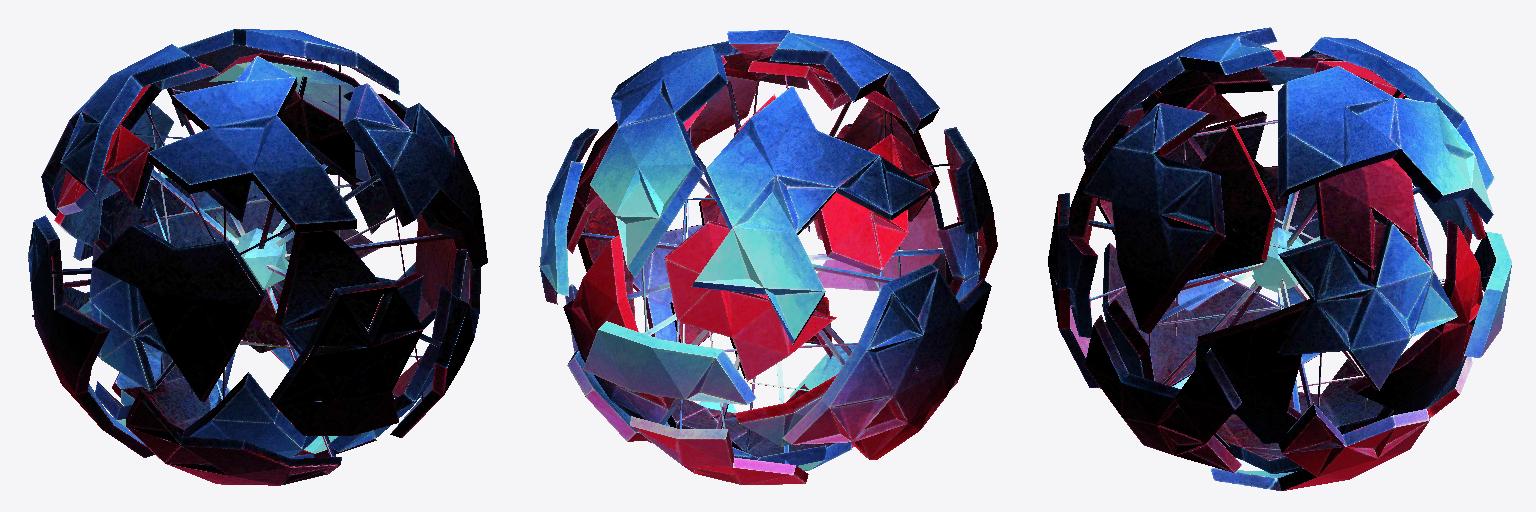
The picture shows the model from 3 angles: view 1: azimuth 30°, elevation 25°; view 2: azimuth 150°, elevation 25°; view 3: azimuth 270°, elevation 25°; orthographic projection.
Parts seen in each view (by area): view 1: metal_planet_Icosphere, metal_interior_Icosphere.019; view 2: metal_planet_Icosphere, metal_interior_Icosphere.019; view 3: metal_planet_Icosphere, metal_interior_Icosphere.019.
Part boxes in pixels (left/top/right/bottom): metal_planet_Icosphere: left=28, top=29, right=487, bottom=485; metal_interior_Icosphere.019: left=54, top=53, right=467, bottom=458; metal_planet_Icosphere: left=539, top=30, right=997, bottom=484; metal_interior_Icosphere.019: left=563, top=55, right=979, bottom=470; metal_planet_Icosphere: left=1048, top=27, right=1511, bottom=490; metal_interior_Icosphere.019: left=1069, top=50, right=1485, bottom=473.
Bounding box in the file's own units: 23.12 × 22.71 × 23.32.
2 materials, 1 textured.